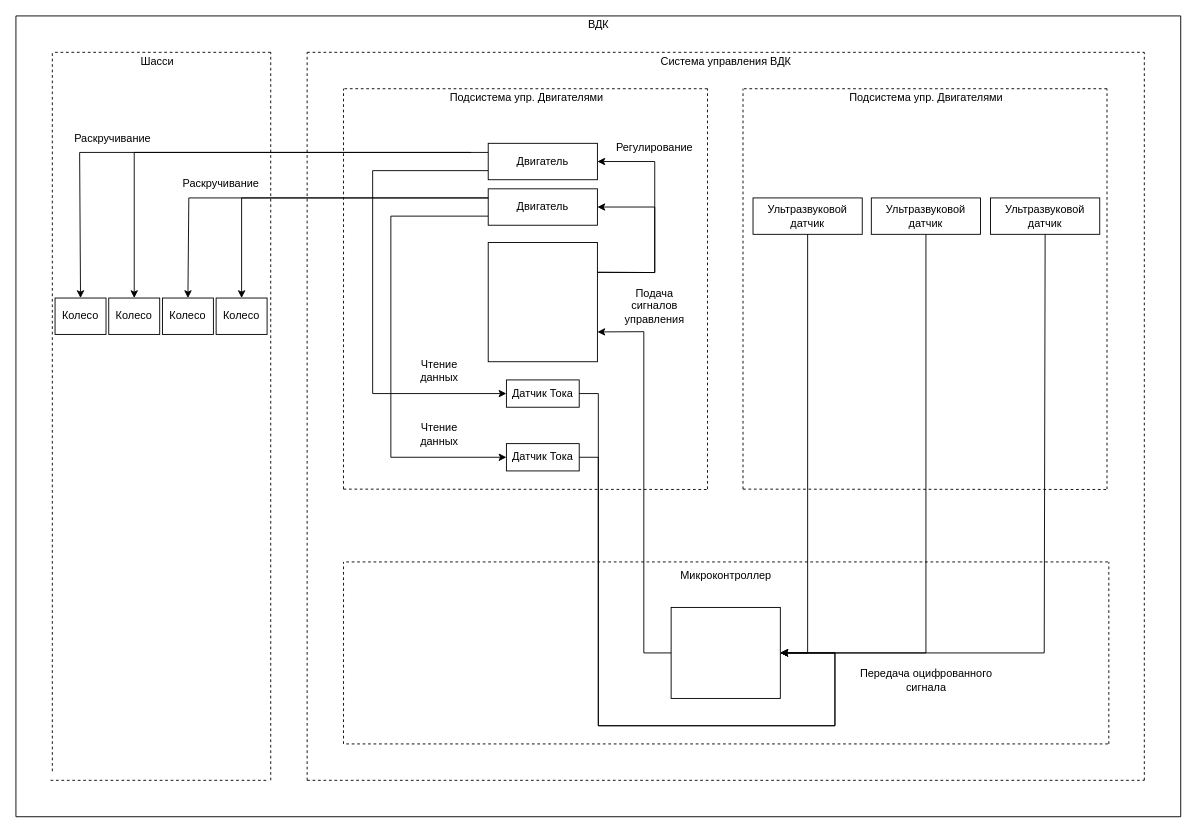
Some shapes in this 1198 by 834 pixel diagram are drawn without their labels. The centre of each missing label's shape, as x and y in pixels:
Двухканальный драйвер: (x=542, y=302)
ПО: (x=725, y=652)
